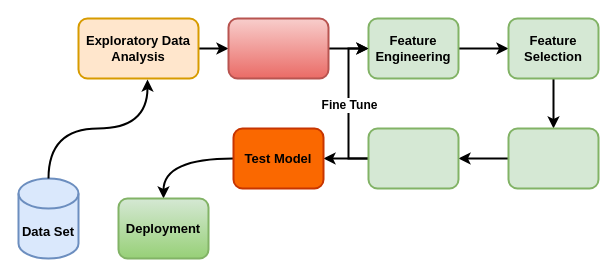
The diagram is 616 pixels wide and 276 high, and some of its shapes have lost their labels. The shapes that lost their labels are listed below. From the top down, each one's centre as x and y in pixels, then its label:
[278,48]: Data Pre-Processing
[413,158]: Validate & Fine Tune Model
[553,158]: Build Model
